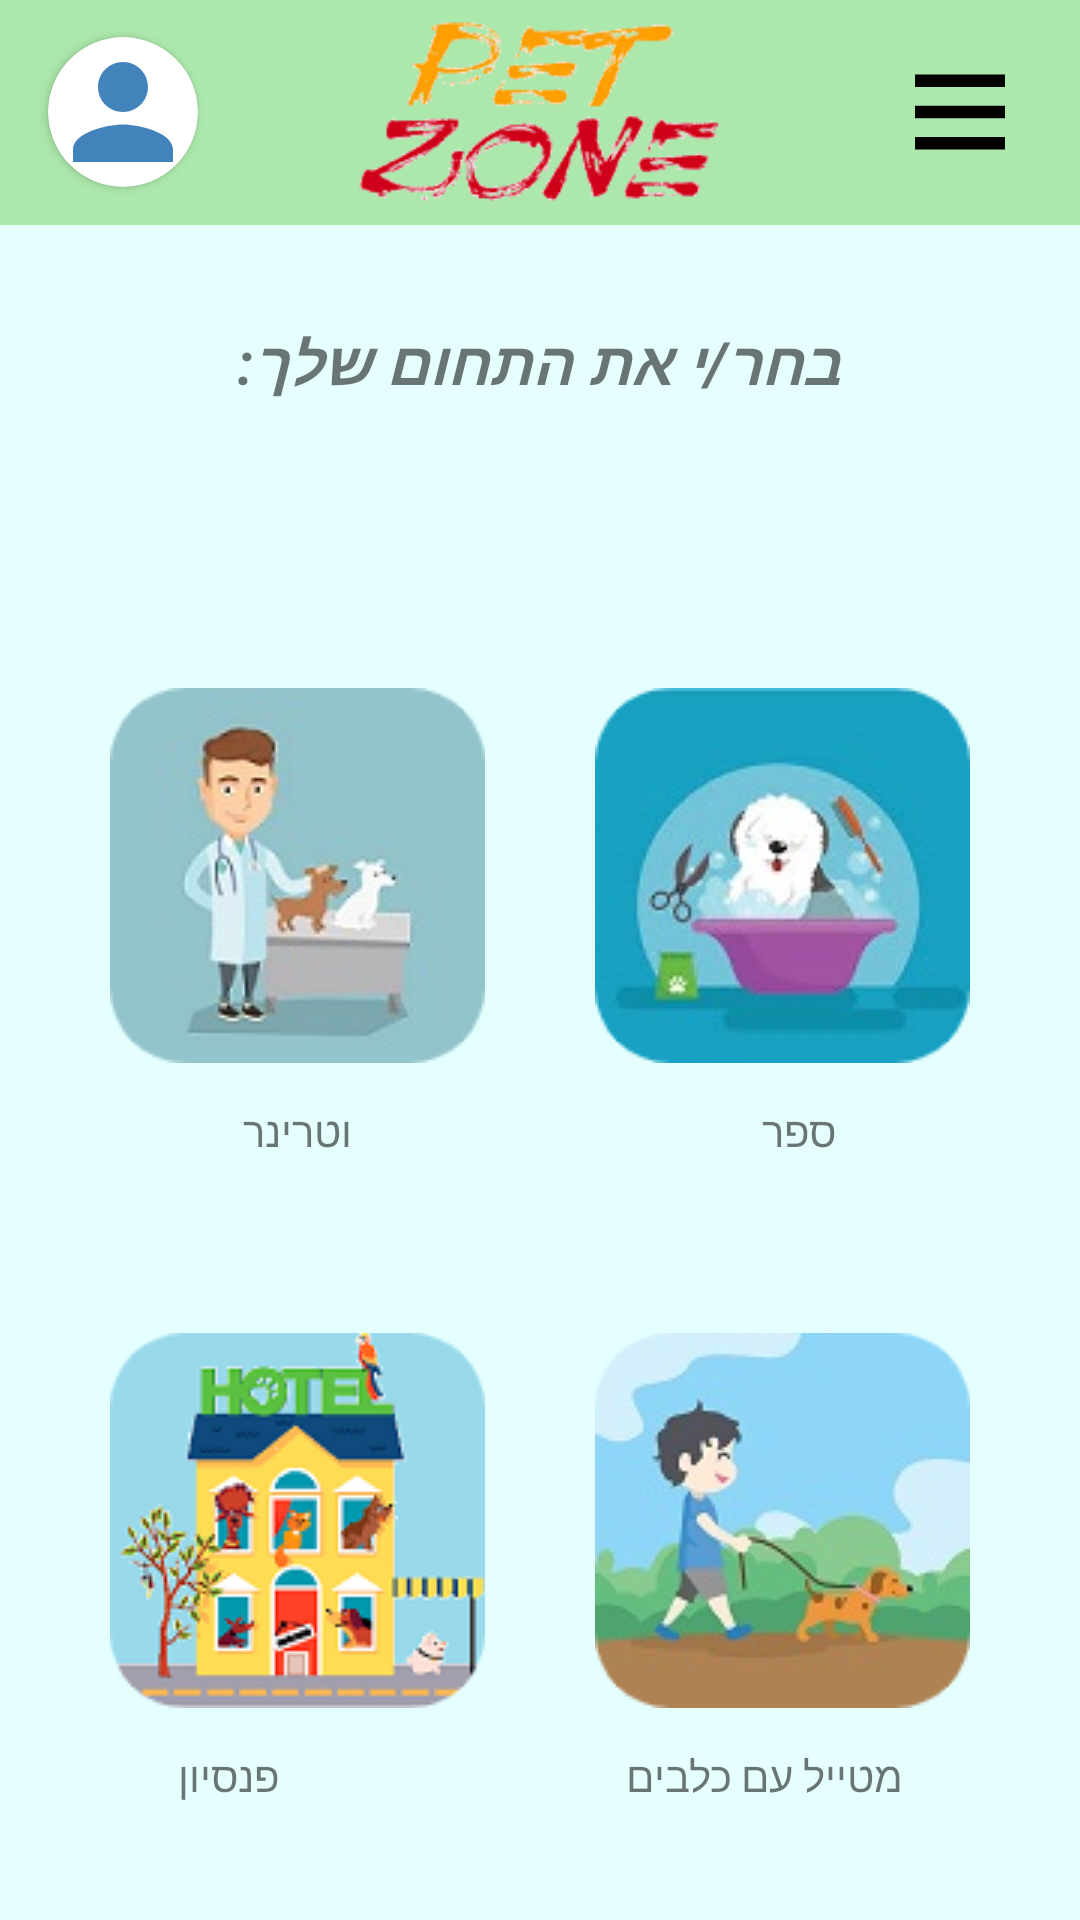

Locate icon controls on the screen. Image size 1080 x 1920, boxes as (x1=x1, y1=y1, x2=x2, y2=y2).
menu: (x1=915, y1=74, x2=1005, y2=150)
no profile photo: (x1=48, y1=37, x2=198, y2=187)
